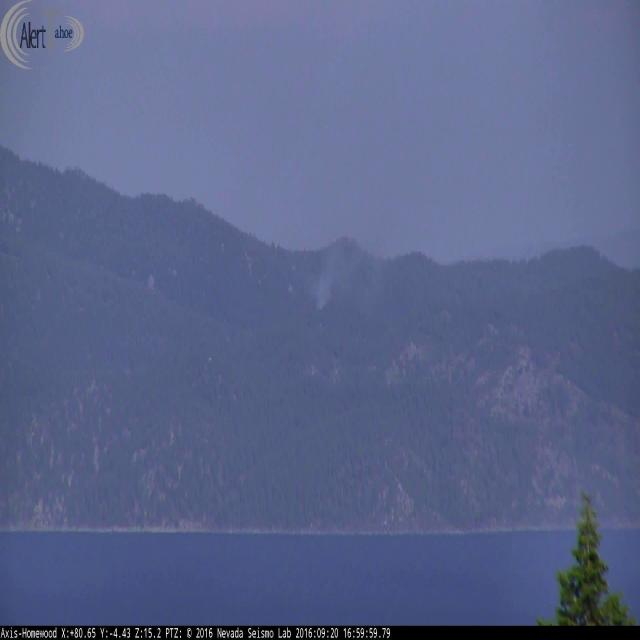smoke: (300, 216, 423, 316)
